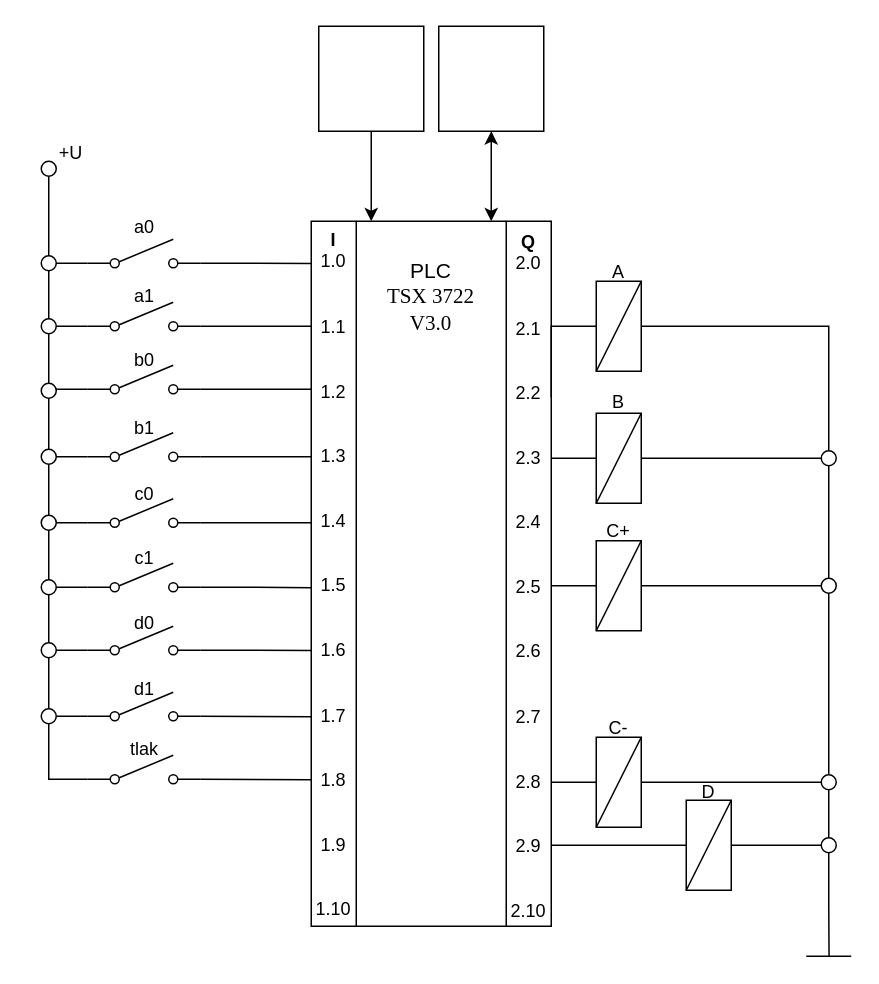
Image size: 879x984. Some labels were removed from this diagram. Here are the shapes that lost their labels. From the top down, the centre of each, then its label:
pixel 370 78: PC
pixel 490 78: OP
